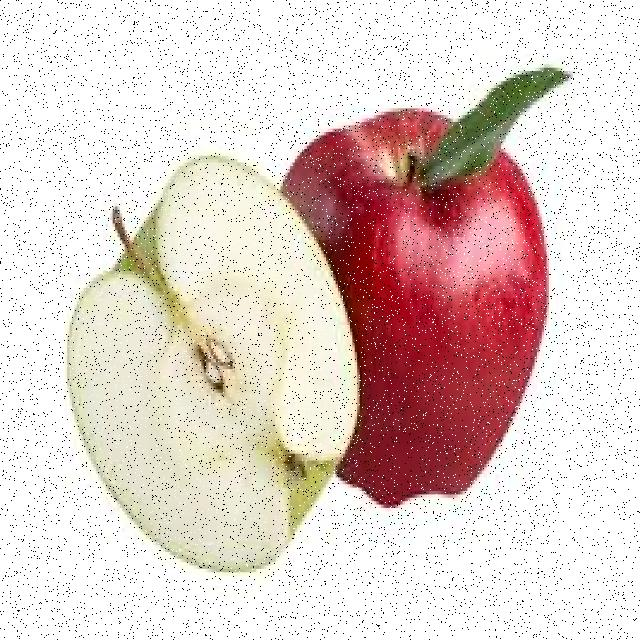Apple: (67, 157, 360, 569), (302, 110, 550, 496)
